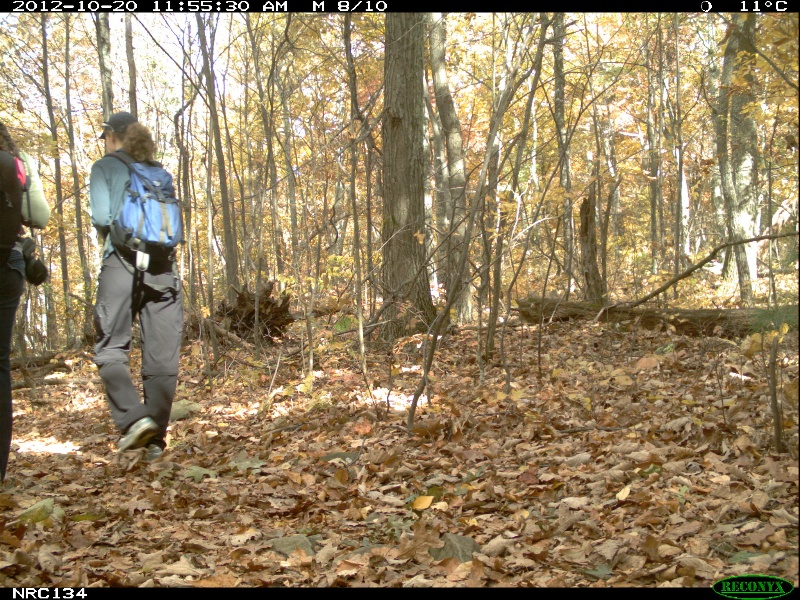human: (79, 106, 191, 459)
human face: (102, 130, 122, 153)
human legs: (84, 242, 192, 456)
